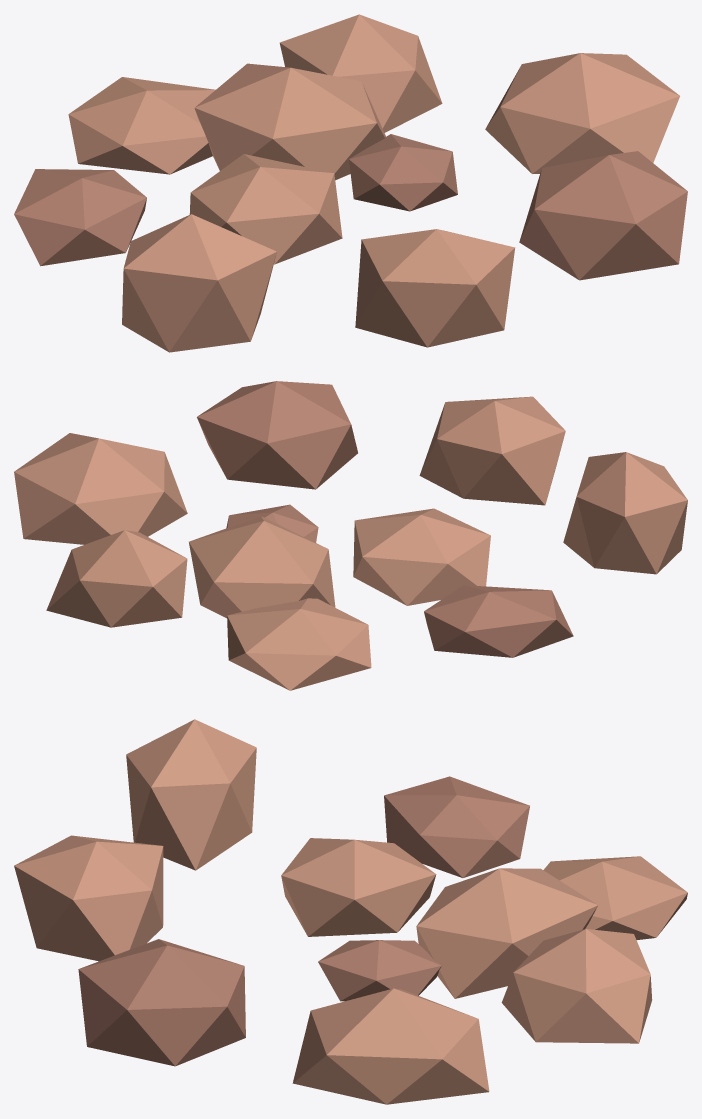
The model's file is Kit_Pebbles.fbx.
3 renders of one model, top to bottom at view 1: azimuth 30°, elevation 25°; view 2: azimuth 150°, elevation 25°; view 3: azimuth 270°, elevation 25°, orthographic. The views are drawn at different scales.
Visible parts, largest first — view 1: Kit_Pebbles; view 2: Kit_Pebbles; view 3: Kit_Pebbles.
Part boxes in pixels (x1=…): Kit_Pebbles: x1=14, y1=14, x2=687, y2=352; Kit_Pebbles: x1=14, y1=381, x2=687, y2=690; Kit_Pebbles: x1=14, y1=719, x2=687, y2=1104.
Size of the model in its own units: 1.4 by 0.25 by 1.3.
